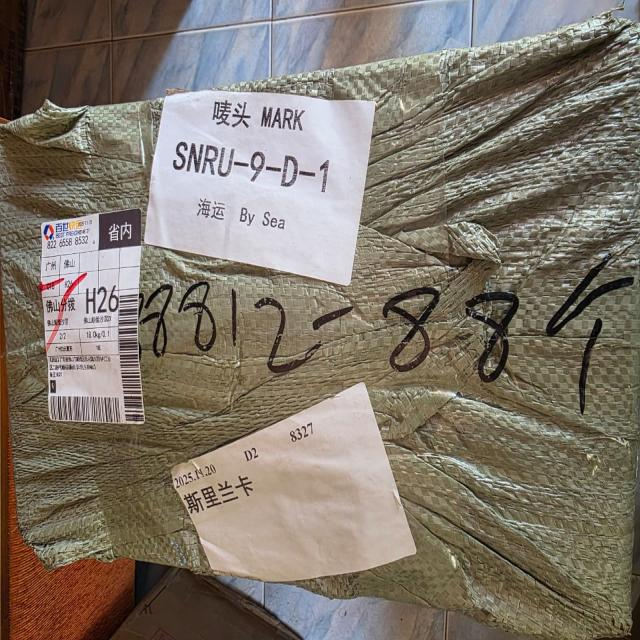export_mark_label: (139, 88, 392, 284), (165, 416, 430, 584), (29, 200, 167, 445)
